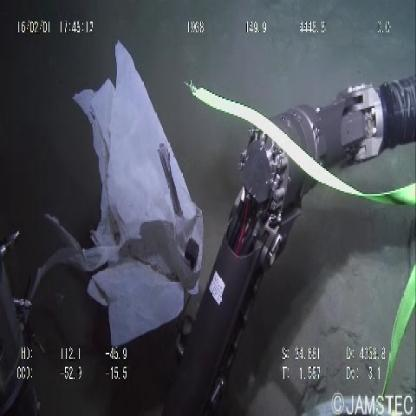Rov: (179, 65, 416, 408)
Rác: (69, 35, 207, 356)
